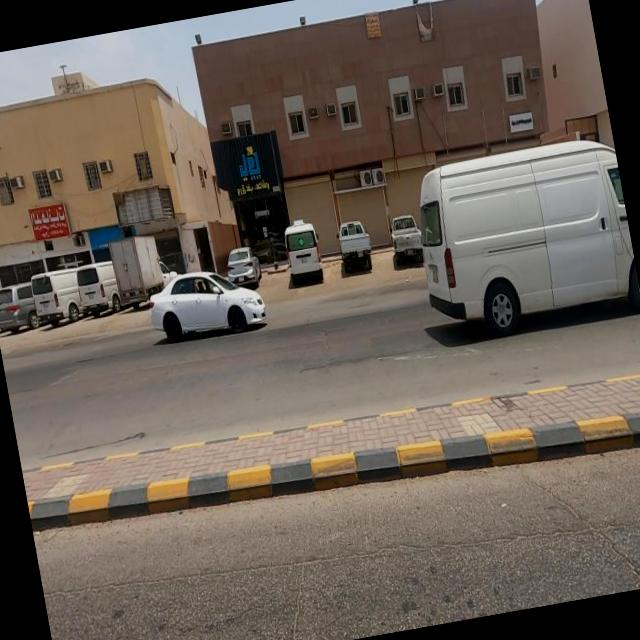debris: (77, 146, 222, 258)
